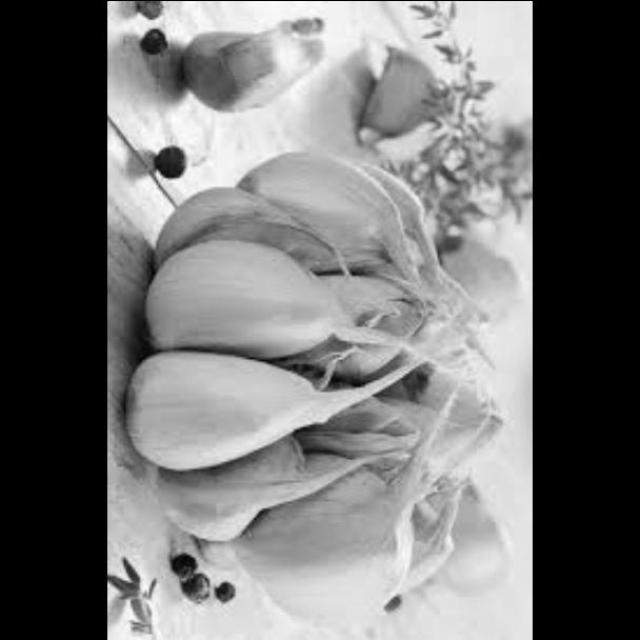toi: (137, 138, 514, 638), (162, 8, 335, 120), (355, 34, 474, 160), (441, 203, 534, 330)
